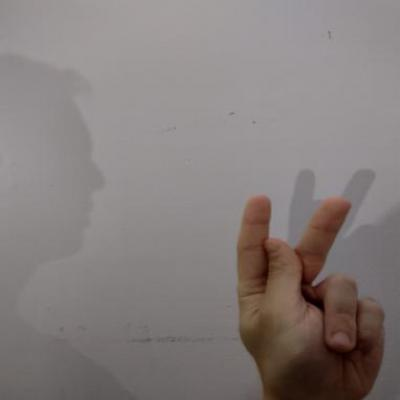hand: (224, 189, 389, 399)
